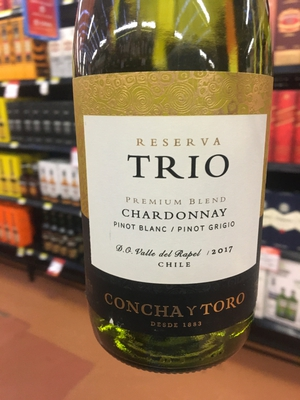trio chardonnay: (61, 3, 290, 372)
